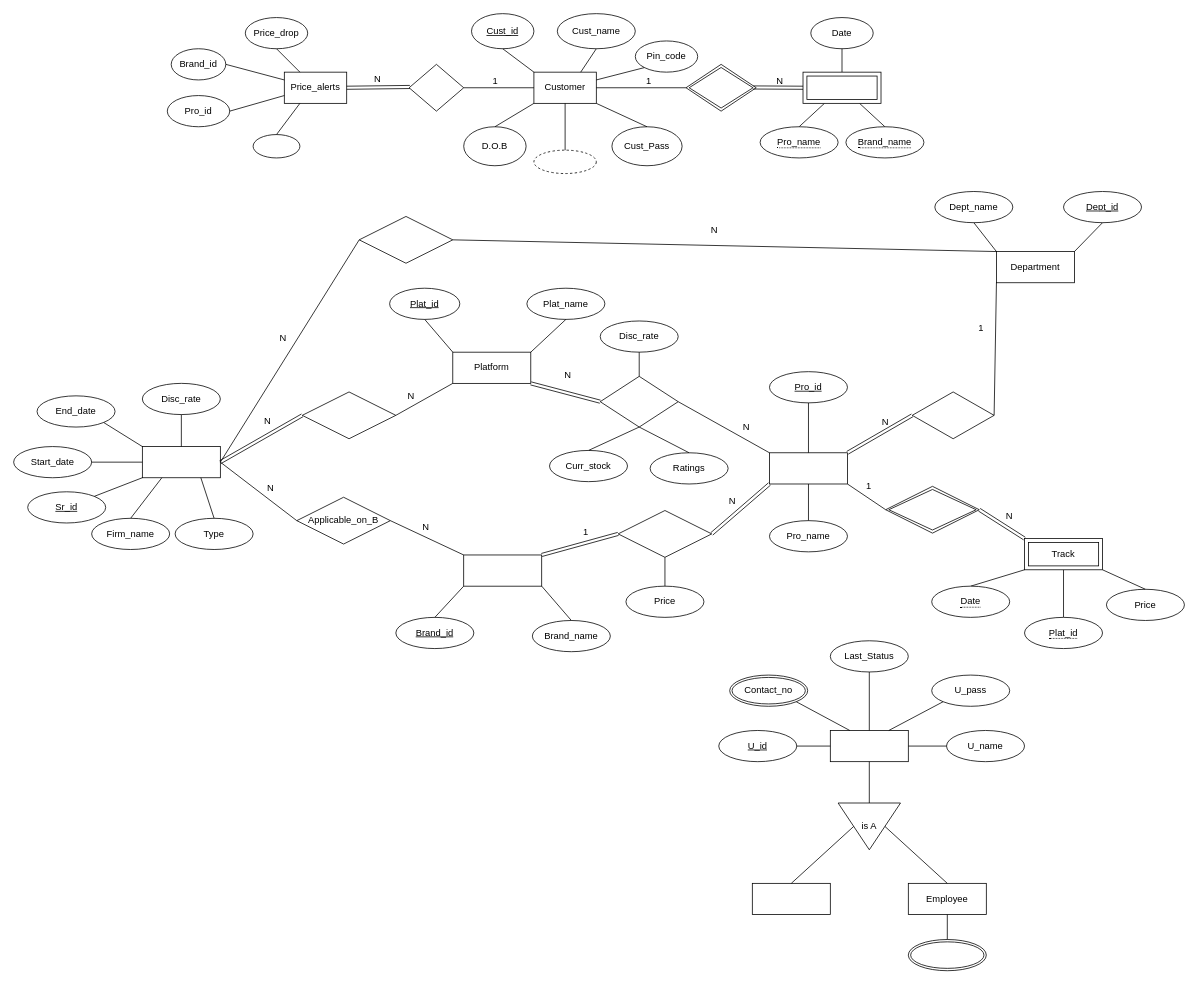
This 1198x984 diagram has some shape labels left out. The centre of each missing label's shape, as x and y in pixels:
"A_id" belongs at [276,146].
"Access" belongs at [947,955].
"Admin" belongs at [791,899].
"Age" belongs at [564,161].
"Applicable_on_D" belongs at [405,239].
"Applicable_on_P" belongs at [348,415].
"Available_On" belongs at [638,401].
"Belongs_to" belongs at [952,415].
"Brand" belongs at [502,570].
"Offer" belongs at [181,462].
"Price_Hist" belongs at [932,509].
"Pro_Hist" belongs at [841,87].
"Product" belongs at [808,468].
"Searched" belongs at [720,87].
"Sets" belongs at [436,87].
"Sold_By" belongs at [664,533].
"User_class" belongs at [869,746].
